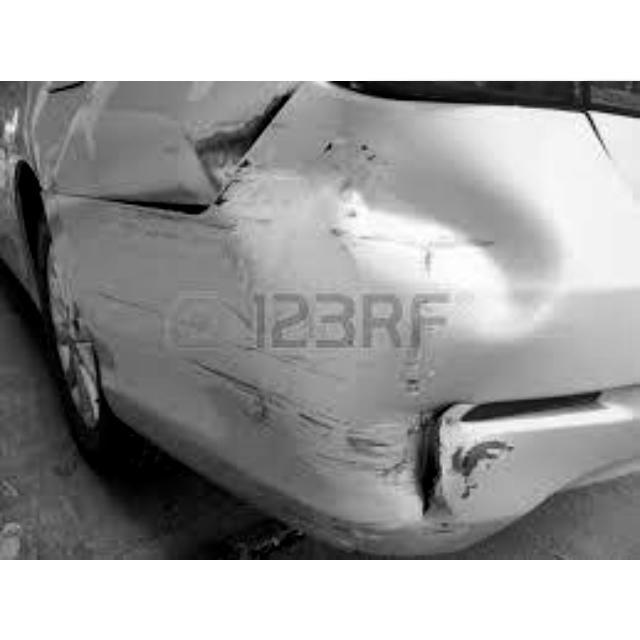rear-bumper-dent: (186, 120, 578, 483)
